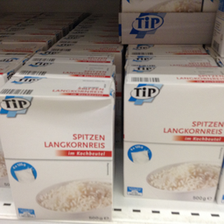rice: (1, 78, 116, 221), (122, 69, 224, 203)
